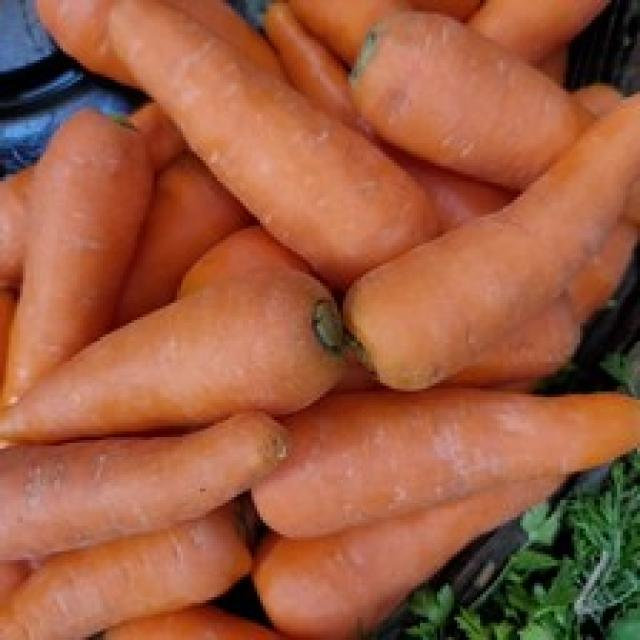Fresh_Carrot: (116, 11, 360, 220)
